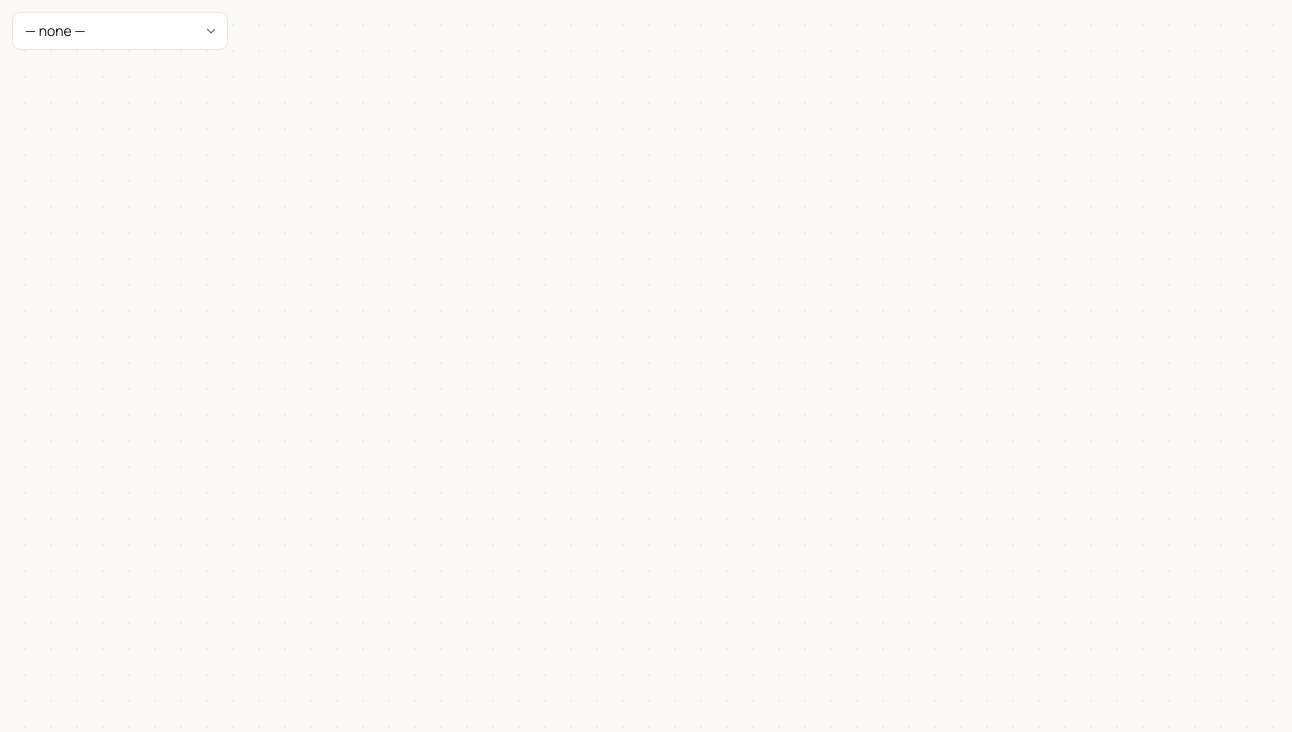
Test: SearchSelect › says so when nothing matches, instead of showing an empty panel
The width and height of the screenshot is (1292, 732).
Replace the text in the dropdown named "Linked vacancy" with "zzz". click: (120,31)
box: [12,12,228,50]
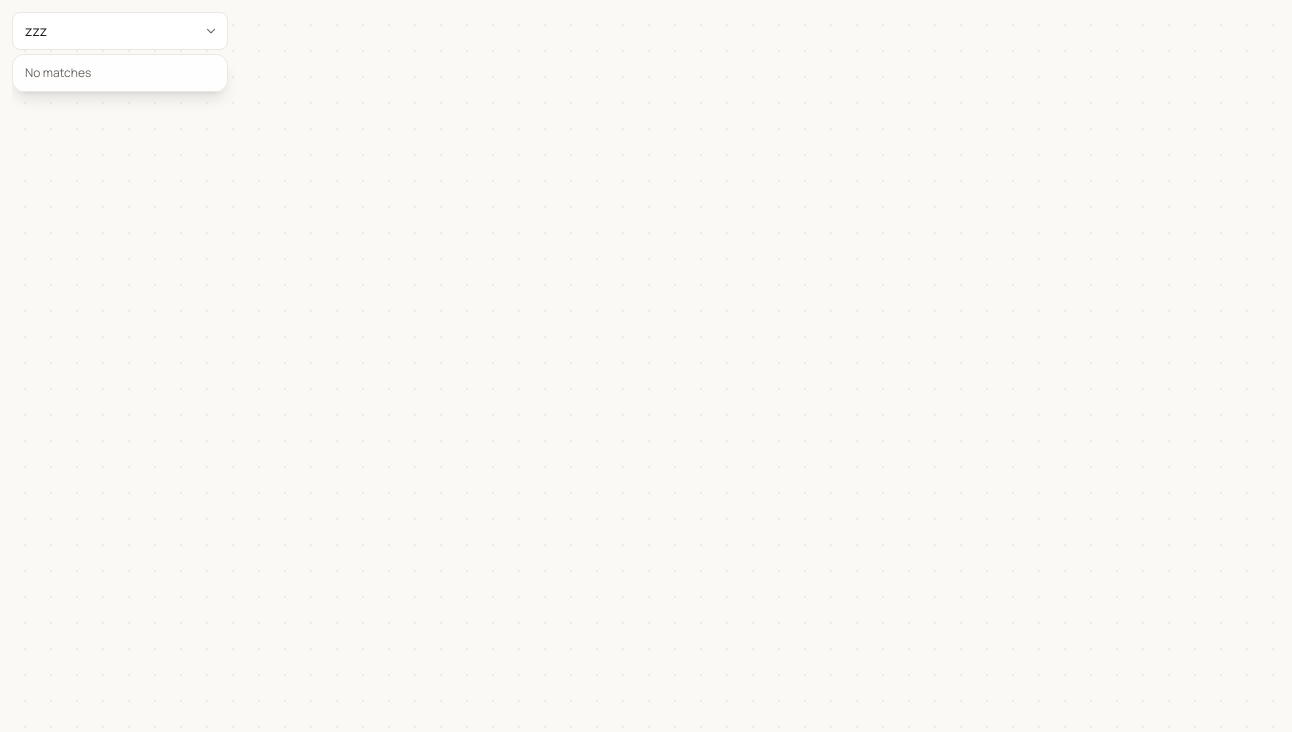
Now the text "No matches" is shown, box [25,64,91,81]
